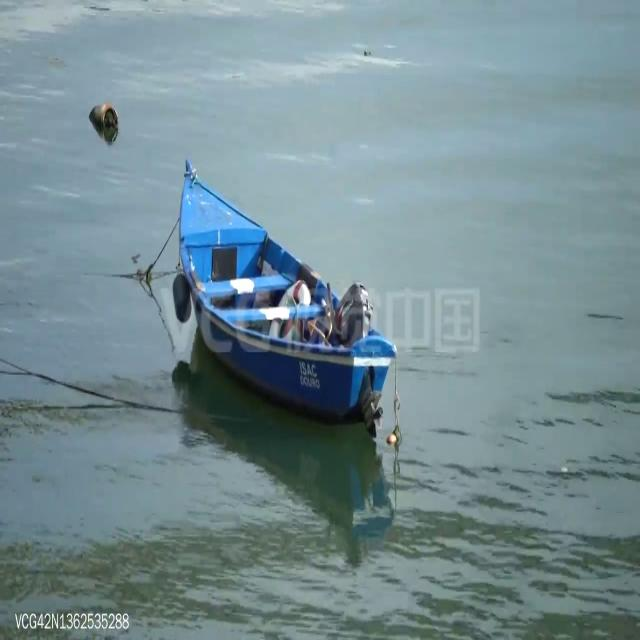fishing boat: (175, 150, 393, 424)
